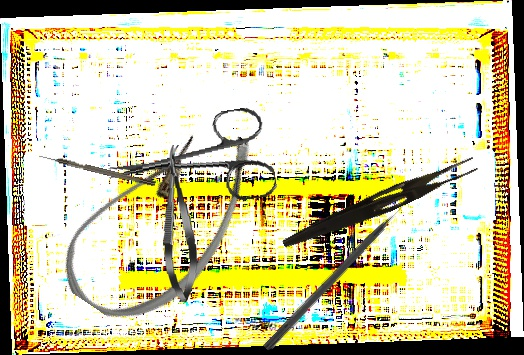Cannula: (46, 90, 277, 347)
Dressing Forceps: (280, 149, 479, 259)
Hook Surgical: (38, 152, 156, 188)
Iris Scissors: (101, 104, 279, 221)
Micro Scissor: (156, 144, 201, 303)
Pusher: (262, 195, 416, 353)
